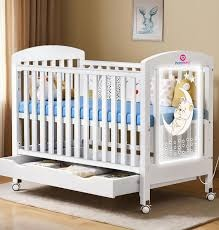crib: (0, 46, 213, 211)
